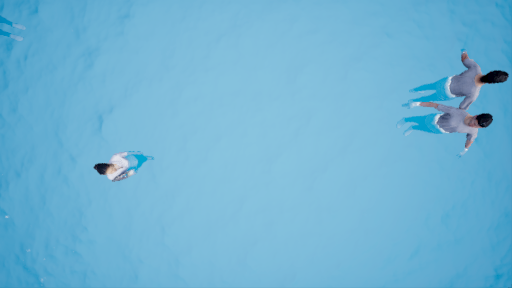person: (402, 55, 509, 106), (395, 99, 498, 150), (91, 140, 163, 188)
